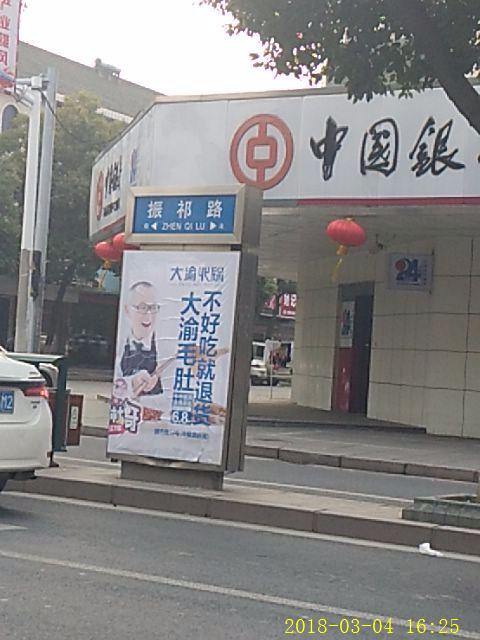multi_signs: (154, 79, 474, 203), (81, 98, 154, 243)
